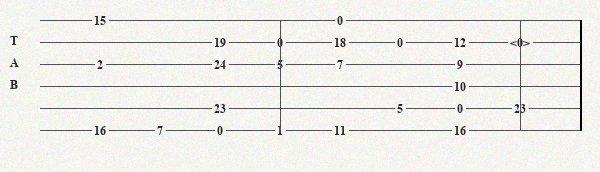0: (217, 124, 227, 137), (277, 36, 287, 49), (337, 14, 347, 27), (397, 36, 407, 49), (457, 102, 467, 115)
1: (277, 124, 287, 137)
10: (454, 80, 470, 93)
11: (334, 124, 350, 137)
12: (454, 36, 470, 49)
15: (94, 14, 110, 27)
16: (94, 124, 110, 137), (454, 124, 470, 137)
18: (334, 36, 350, 49)
19: (214, 36, 230, 49)
2: (97, 58, 107, 71)
23: (214, 102, 230, 115), (514, 102, 530, 115)
24: (214, 58, 230, 71)
5: (277, 58, 287, 71), (397, 102, 407, 115)
7: (157, 124, 167, 137), (337, 58, 347, 71)
9: (457, 58, 467, 71)
harmonic: (510, 36, 534, 49)
